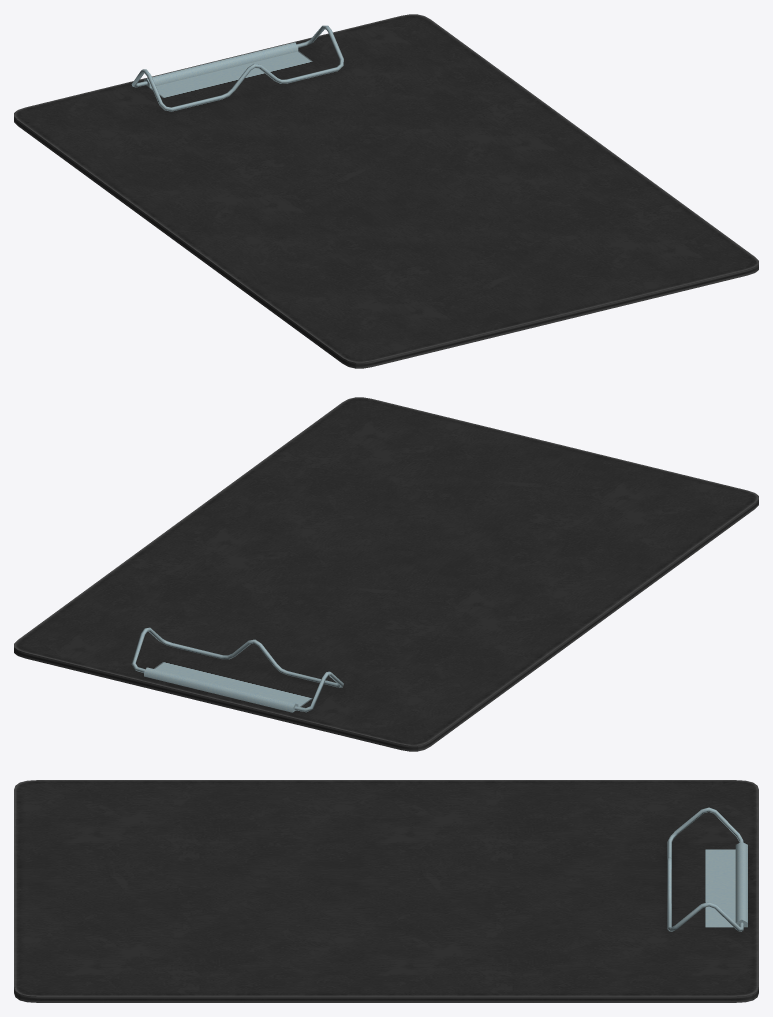
Rendered from PaperTablet.fbx.
The picture shows the model from 3 angles, top to bottom: view 1: azimuth 30°, elevation 25°; view 2: azimuth 150°, elevation 25°; view 3: azimuth 270°, elevation 25°; orthographic projection. The views are drawn at different scales.
Parts seen in each view (by area): view 1: PaperTablet; view 2: PaperTablet; view 3: PaperTablet.
Boxes of the visible parts, box(x1,y1,x2,y2) form: PaperTablet: box(14, 14, 758, 368); PaperTablet: box(14, 397, 758, 751); PaperTablet: box(14, 780, 758, 1002).
Size of the model in its own units: 22 by 1.89 by 32.
